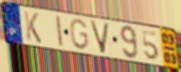5: (141, 29, 160, 61)
9: (118, 24, 140, 61)
G: (68, 17, 90, 51)
I: (55, 14, 65, 49)
K: (23, 10, 43, 45)
V: (88, 19, 112, 55)
